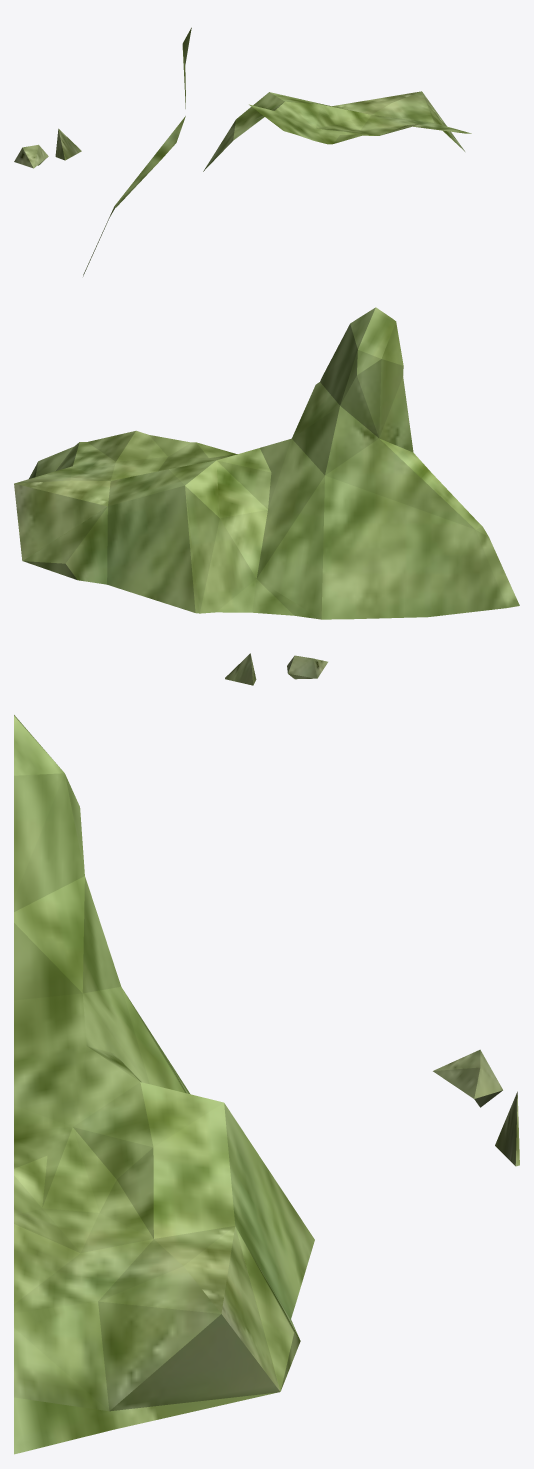
3 views of the same model, one above another, from view 1: azimuth 30°, elevation 25°; view 2: azimuth 150°, elevation 25°; view 3: azimuth 270°, elevation 25° (orthographic). The views are drawn at different scales.
Bounding box in the file's own units: 2.07 × 1.05 × 1.08.
Materials: 1 (1 with a texture image).
